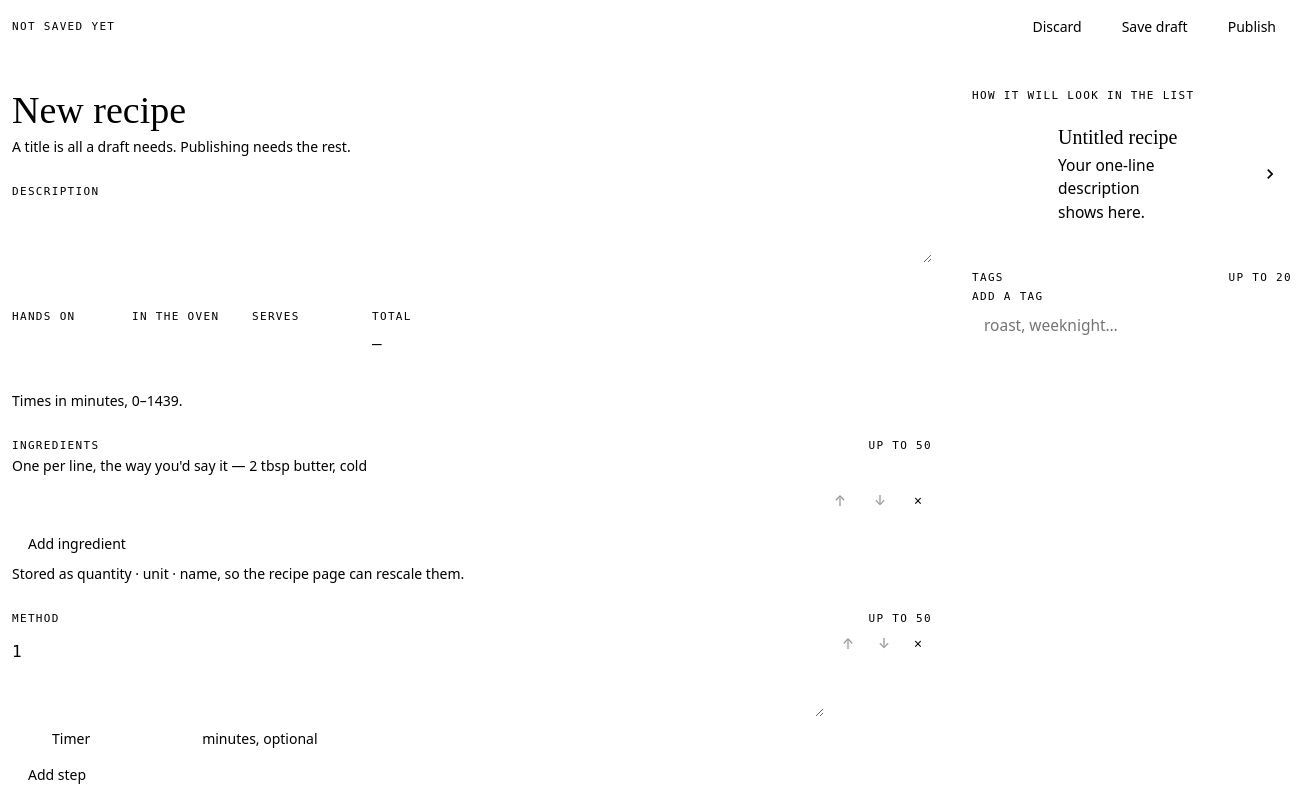
Test: RecipeFormPage — list-row preview › previews the list row as you type, kept out of the tab order and the accessibility tree
The image size is (1304, 812).
Type "Weeknight dal" into the field named "Recipe title" at (472, 113), box x1=12 y1=90 x2=932 y2=136
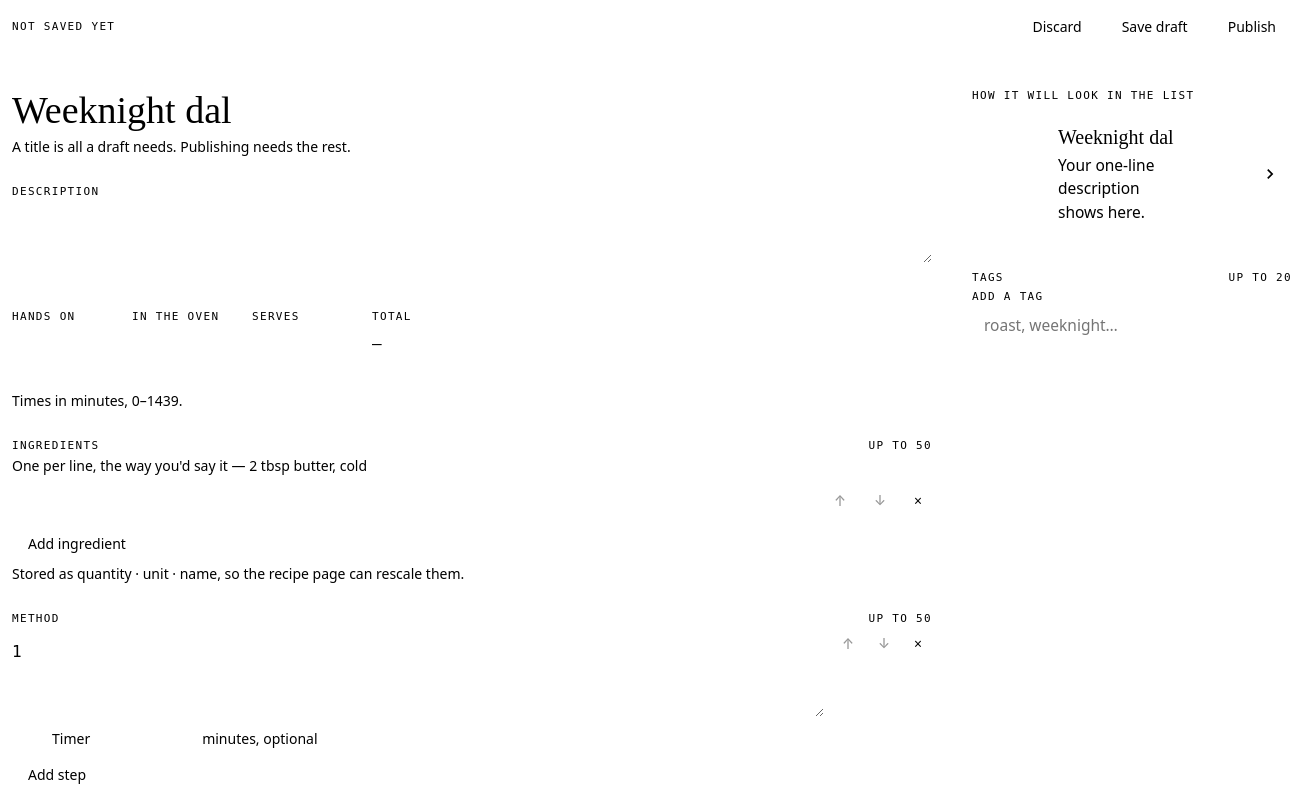
Expected: the heading "Weeknight dal" is shown, x1=1058 y1=126 x2=1174 y2=148
